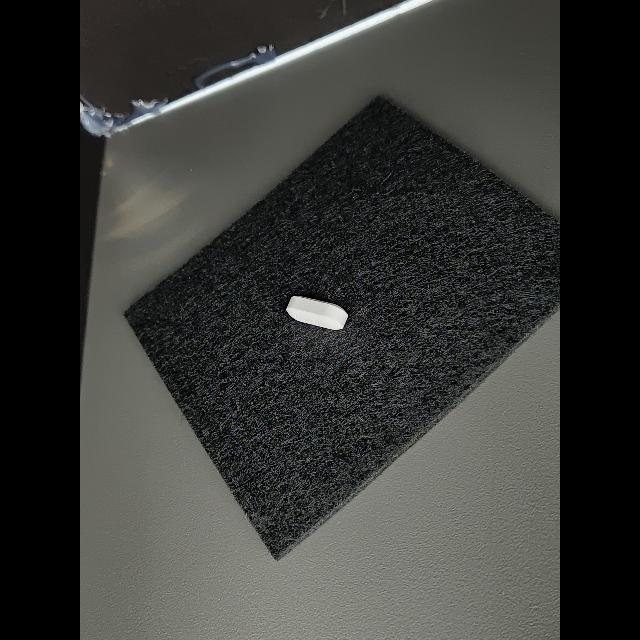Intact Pill: (286, 296, 348, 330)
